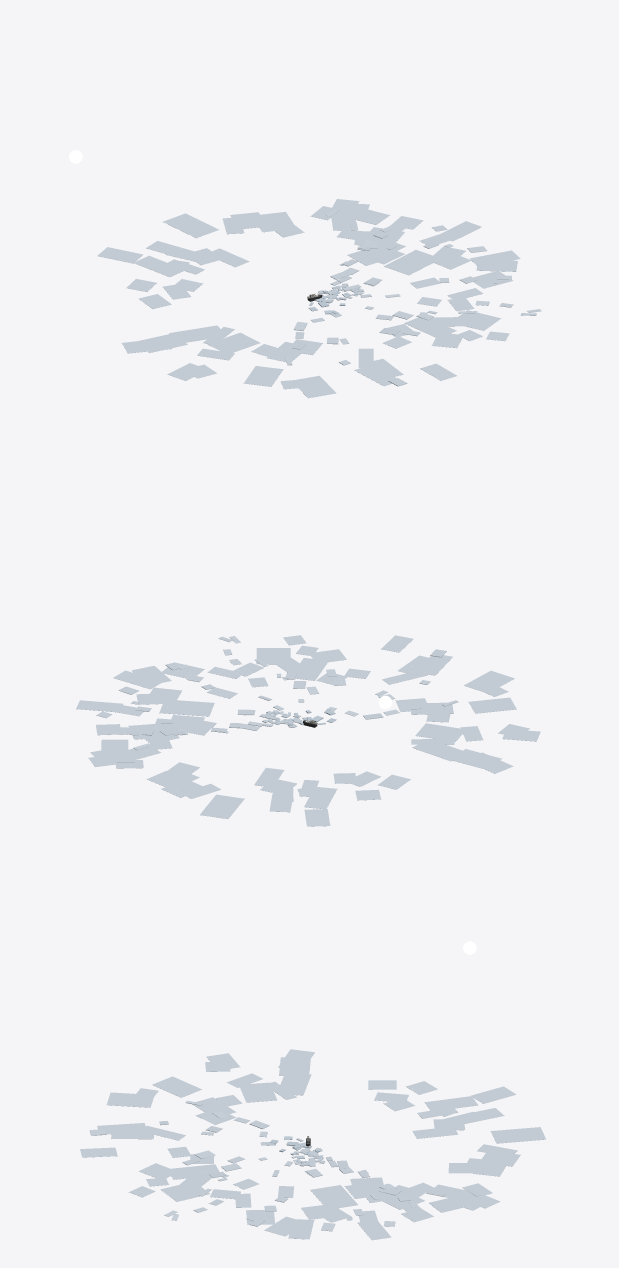
Rendered from bridge.glb.
The picture shows the model from 3 angles, top to bottom: view 1: azimuth 30°, elevation 25°; view 2: azimuth 150°, elevation 25°; view 3: azimuth 270°, elevation 25°; orthographic projection.
Visible parts, largest first — view 1: distant ice 56, distant ice 53, distant ice 09, distant ice 62, distant ice 01, distant ice 49; view 2: distant ice 56, distant ice 53, distant ice 09, distant ice 01, distant ice 21, distant ice 62, distant ice 24; view 3: distant ice 56, distant ice 53, distant ice 09, distant ice 01, distant ice 21, distant ice 42, distant ice 62, distant ice 49.
Boxes of the visible parts, x1,y1,x2,y2 form: distant ice 56: (384, 250, 440, 275); distant ice 53: (163, 213, 218, 238); distant ice 09: (292, 375, 336, 398); distant ice 62: (243, 366, 283, 386); distant ice 01: (207, 332, 260, 352); distant ice 49: (404, 317, 456, 337); distant ice 56: (159, 699, 214, 716); distant ice 53: (200, 794, 244, 818); distant ice 09: (464, 670, 514, 693); distant ice 01: (415, 723, 465, 741); distant ice 21: (412, 741, 467, 761); distant ice 62: (468, 697, 516, 713); distant ice 24: (256, 648, 290, 664); distant ice 56: (310, 1185, 357, 1208); distant ice 53: (490, 1127, 545, 1143); distant ice 09: (106, 1092, 154, 1107); distant ice 01: (239, 1082, 276, 1102); distant ice 21: (277, 1072, 311, 1095); distant ice 42: (279, 1057, 310, 1075); distant ice 62: (152, 1076, 201, 1097); distant ice 49: (167, 1164, 219, 1179).
Size of what is drawn, in the model's own units: 1394 by 535 by 1389.
